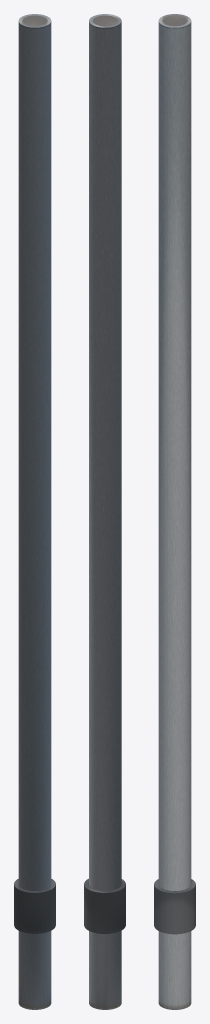
The model's file is right_pillar.glb.
The picture shows the model from 3 angles, left to right: view 1: azimuth 90°, elevation 25°; view 2: azimuth 150°, elevation 25°; view 3: azimuth 270°, elevation 25°; orthographic projection.
Parts seen in each view (by area): view 1: Cylinder.004, Cylinder.005; view 2: Cylinder.004, Cylinder.005; view 3: Cylinder.004, Cylinder.005.
Boxes of the visible parts, x1,y1,x2,y2 form: Cylinder.004: [18, 14, 51, 1009]; Cylinder.005: [14, 879, 55, 933]; Cylinder.004: [89, 14, 121, 1009]; Cylinder.005: [84, 878, 125, 933]; Cylinder.004: [158, 14, 191, 1009]; Cylinder.005: [154, 879, 195, 934].
Bounding box in the file's own units: 0.25 × 6.48 × 0.2493.
Materials: 2 (2 with a texture image).
